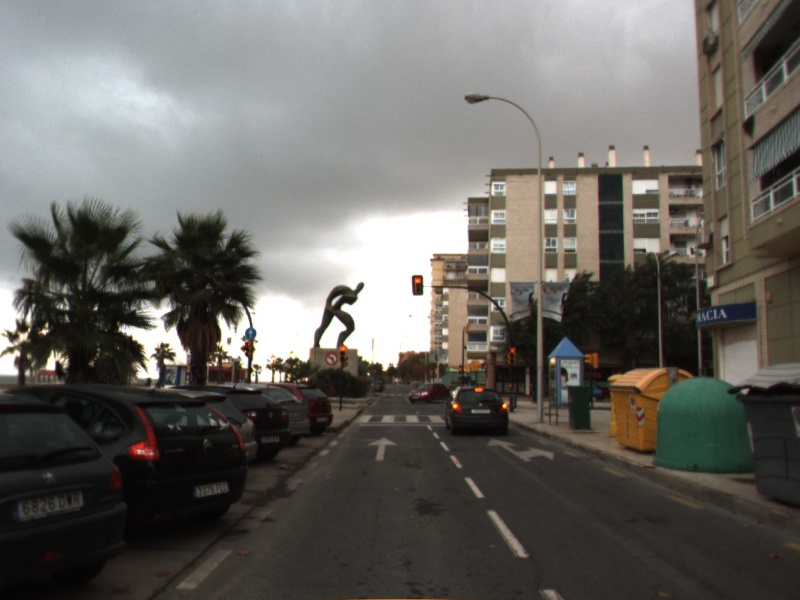STRAIGHT: (366, 435, 400, 462)
STRAIGHT_RIGHT: (485, 436, 555, 463)
